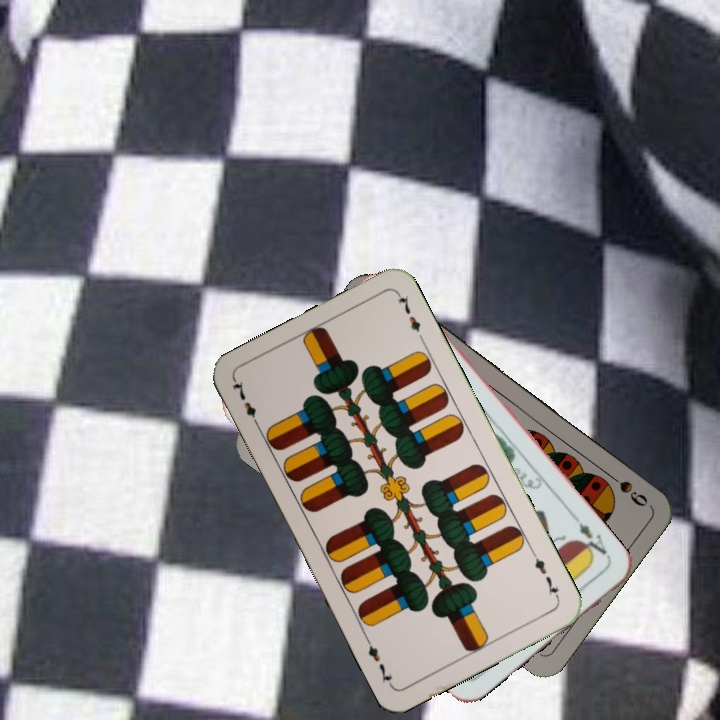E7: (527, 548, 563, 602), (228, 376, 263, 431)
EA: (573, 518, 613, 563)
S9: (600, 467, 651, 510)
